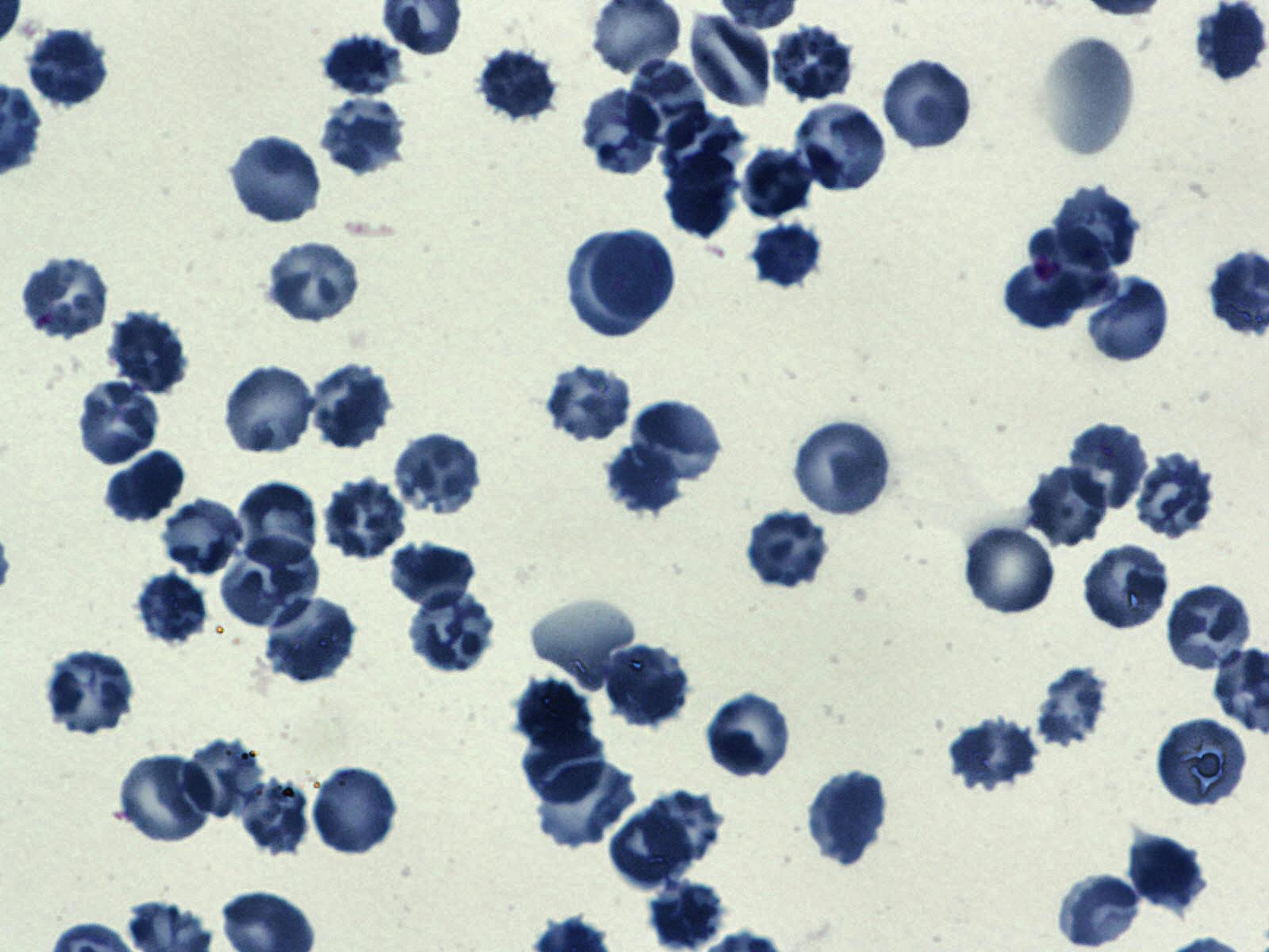Uninfected: (1042, 36, 1134, 155), (796, 420, 894, 516), (568, 232, 658, 336), (962, 523, 1059, 616), (539, 758, 639, 848), (532, 603, 637, 688), (685, 12, 775, 109), (118, 754, 215, 844), (228, 134, 322, 226), (223, 364, 315, 455), (1081, 540, 1173, 631), (219, 540, 314, 628), (881, 58, 973, 148), (1165, 583, 1254, 674), (1160, 718, 1250, 807), (796, 104, 888, 191), (631, 398, 724, 483), (1028, 223, 1121, 308), (266, 595, 357, 681), (45, 649, 136, 735), (592, 228, 675, 322), (406, 589, 497, 673), (19, 256, 110, 339), (600, 641, 687, 727), (707, 692, 793, 779), (625, 59, 707, 150), (314, 767, 397, 856), (1085, 277, 1171, 362), (393, 432, 482, 514), (581, 87, 663, 176), (1067, 421, 1149, 510), (237, 481, 319, 569), (270, 244, 362, 322), (1055, 186, 1140, 270), (608, 805, 692, 890), (77, 379, 159, 466), (322, 480, 412, 559), (160, 498, 247, 579), (660, 108, 748, 187), (809, 772, 887, 861), (545, 363, 633, 441), (667, 149, 742, 240), (309, 363, 391, 446), (745, 508, 829, 589), (1132, 452, 1213, 536), (1026, 466, 1111, 546), (950, 717, 1039, 793), (522, 723, 604, 805), (28, 29, 110, 110), (182, 739, 264, 820), (321, 94, 405, 172), (106, 450, 190, 527), (386, 542, 481, 610), (641, 787, 724, 864), (1005, 260, 1097, 328), (108, 313, 185, 393), (1057, 871, 1141, 944), (1031, 667, 1107, 747), (1130, 831, 1203, 912), (646, 877, 727, 950), (514, 676, 592, 750), (475, 47, 556, 118), (774, 27, 851, 101), (742, 145, 815, 221), (325, 31, 408, 97), (243, 778, 309, 858), (611, 443, 687, 512), (136, 574, 207, 647), (753, 217, 823, 291)
